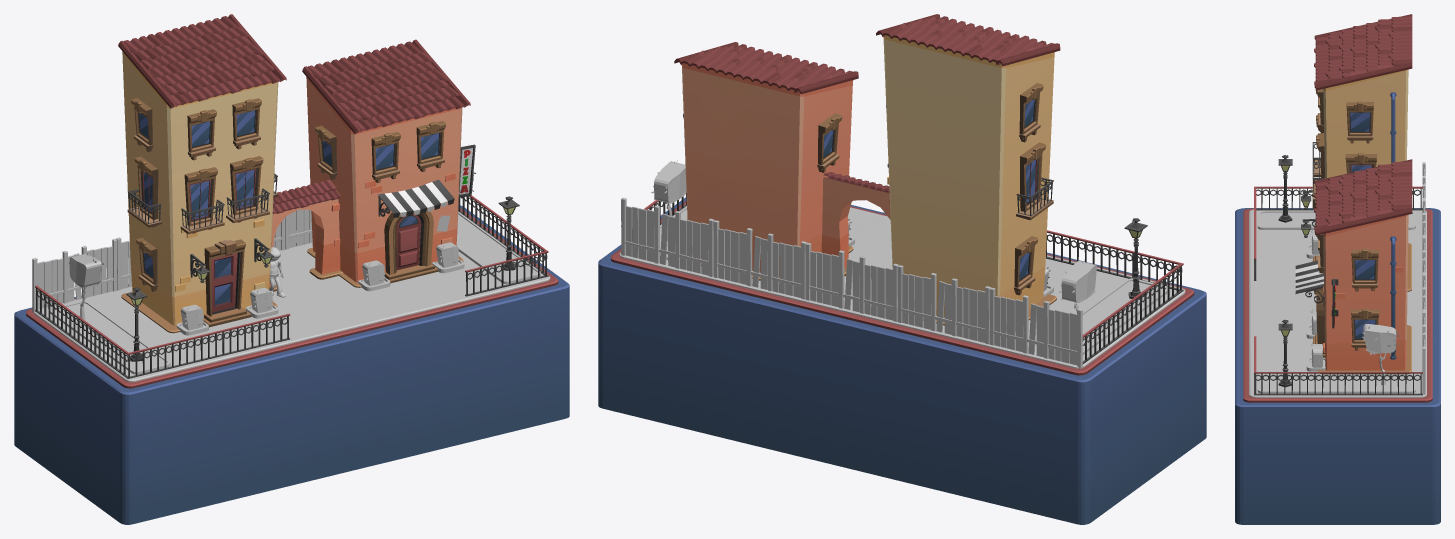
The picture shows the model from 3 angles, left to right: view 1: azimuth 30°, elevation 25°; view 2: azimuth 150°, elevation 25°; view 3: azimuth 270°, elevation 25°; orthographic projection. The views are drawn at different scales.
Visible parts, largest first — view 1: huitugou_2056_36, huitugou_2056_42, huitugou_2056_44, huitugou_2056_57, huitugou_2056_68, huitugou_2056_62, huitugou_2056_55, huitugou_2056_43, huitugou_2056_35, huitugou_2056_41, huitugou_2056_14, huitugou_2056_45 (+30 smaller); view 2: huitugou_2056_36, huitugou_2056_57, huitugou_2056_42, huitugou_2056_44, huitugou_2056_68, huitugou_2056_05, huitugou_2056_02, huitugou_2056_03, huitugou_2056_04, huitugou_2056_01, huitugou_2056_62, huitugou_2056_55 (+15 smaller); view 3: huitugou_2056_42, huitugou_2056_68, huitugou_2056_57, huitugou_2056_62, huitugou_2056_55, huitugou_2056_43, huitugou_2056_41, huitugou_2056_35, huitugou_2056_33, huitugou_2056_36, huitugou_2056_44, huitugou_2056_52 (+18 smaller).
Part boxes in pixels (bbox=[...]): huitugou_2056_36: bbox=[14, 284, 318, 524]; huitugou_2056_42: bbox=[379, 205, 569, 453]; huitugou_2056_44: bbox=[228, 243, 425, 498]; huitugou_2056_57: bbox=[122, 28, 278, 325]; huitugou_2056_68: bbox=[306, 53, 462, 282]; huitugou_2056_62: bbox=[302, 39, 470, 133]; huitugou_2056_55: bbox=[118, 14, 286, 108]; huitugou_2056_43: bbox=[237, 243, 406, 355]; huitugou_2056_35: bbox=[33, 286, 300, 382]; huitugou_2056_41: bbox=[312, 223, 550, 315]; huitugou_2056_14: bbox=[269, 179, 342, 291]; huitugou_2056_45: bbox=[203, 239, 251, 327]; huitugou_2056_36: bbox=[872, 252, 1206, 524]; huitugou_2056_57: bbox=[883, 35, 1054, 317]; huitugou_2056_42: bbox=[598, 197, 883, 458]; huitugou_2056_44: bbox=[756, 212, 1083, 495]; huitugou_2056_68: bbox=[681, 63, 853, 277]; huitugou_2056_05: bbox=[989, 287, 1082, 368]; huitugou_2056_02: bbox=[713, 220, 806, 299]; huitugou_2056_03: bbox=[805, 242, 898, 321]; huitugou_2056_04: bbox=[897, 265, 990, 344]; huitugou_2056_01: bbox=[621, 197, 714, 276]; huitugou_2056_62: bbox=[674, 42, 858, 94]; huitugou_2056_55: bbox=[876, 14, 1060, 66]; huitugou_2056_42: bbox=[1235, 334, 1440, 524]; huitugou_2056_68: bbox=[1323, 214, 1408, 370]; huitugou_2056_57: bbox=[1323, 69, 1408, 178]; huitugou_2056_62: bbox=[1314, 159, 1412, 235]; huitugou_2056_55: bbox=[1314, 14, 1412, 90]; huitugou_2056_43: bbox=[1249, 256, 1426, 332]; huitugou_2056_41: bbox=[1249, 330, 1426, 397]; huitugou_2056_35: bbox=[1249, 209, 1426, 285]; huitugou_2056_33: bbox=[1257, 374, 1415, 393]; huitugou_2056_36: bbox=[1235, 208, 1440, 295]; huitugou_2056_44: bbox=[1235, 255, 1440, 342]; huitugou_2056_52: bbox=[1346, 101, 1373, 143].
Size of the model in its own units: 1104 by 919 by 485.
